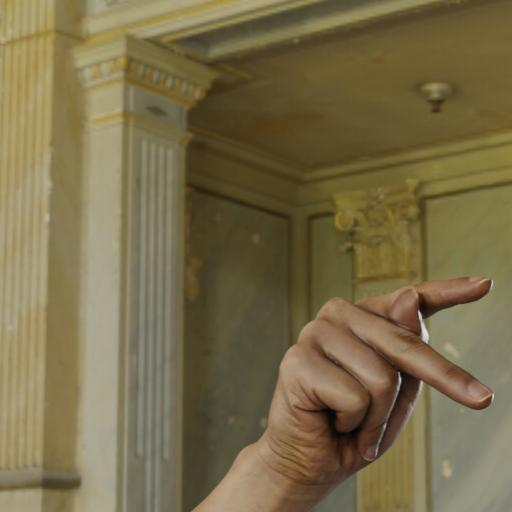P: (265, 270, 498, 478)
